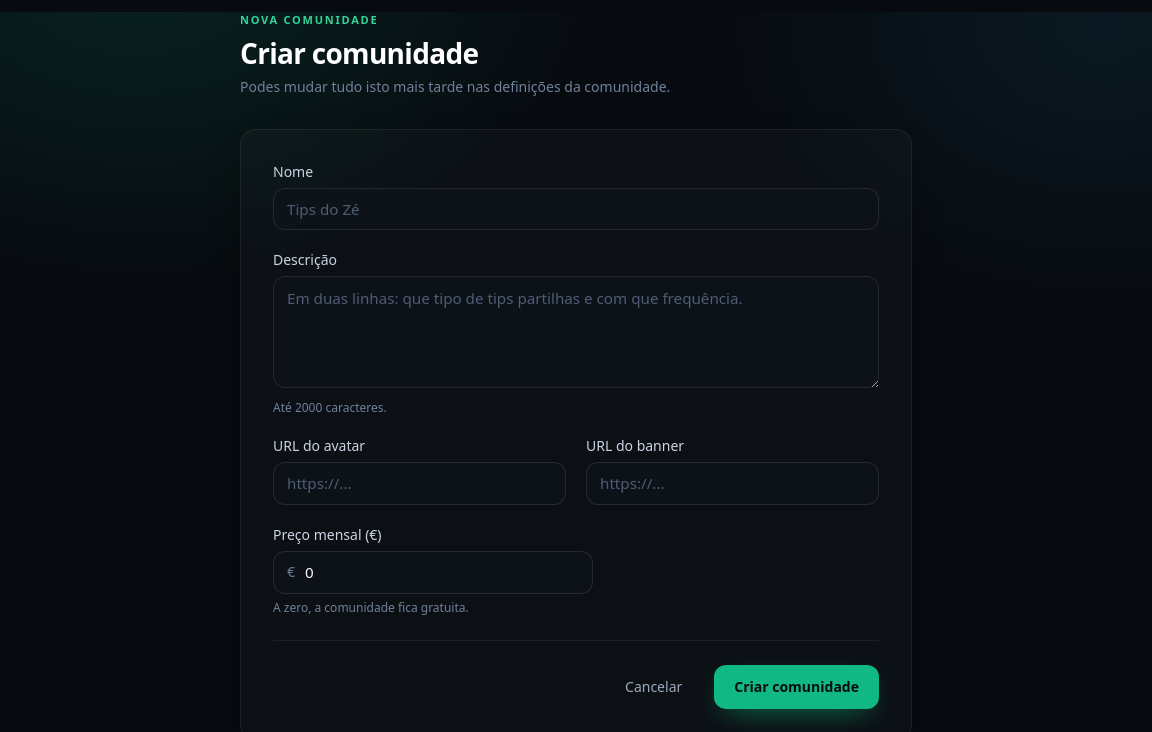
CreateCommunityPage › limiteDeComunidadesMostraAMensagemDevolvidaPeloBackend
Type "Comunidade Quatro" into the field labelled "Nome" at (576, 209), box [273,188,879,230]
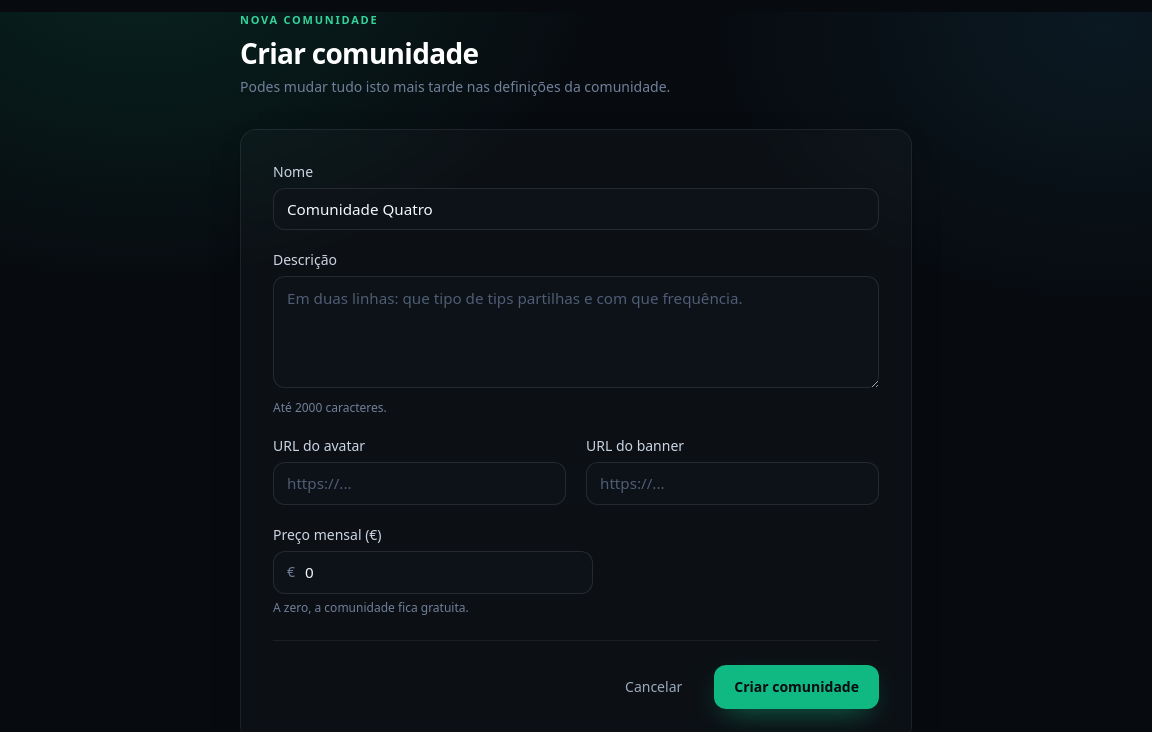
Click the button "Criar comunidade" at (797, 687), box [714,665,879,709]
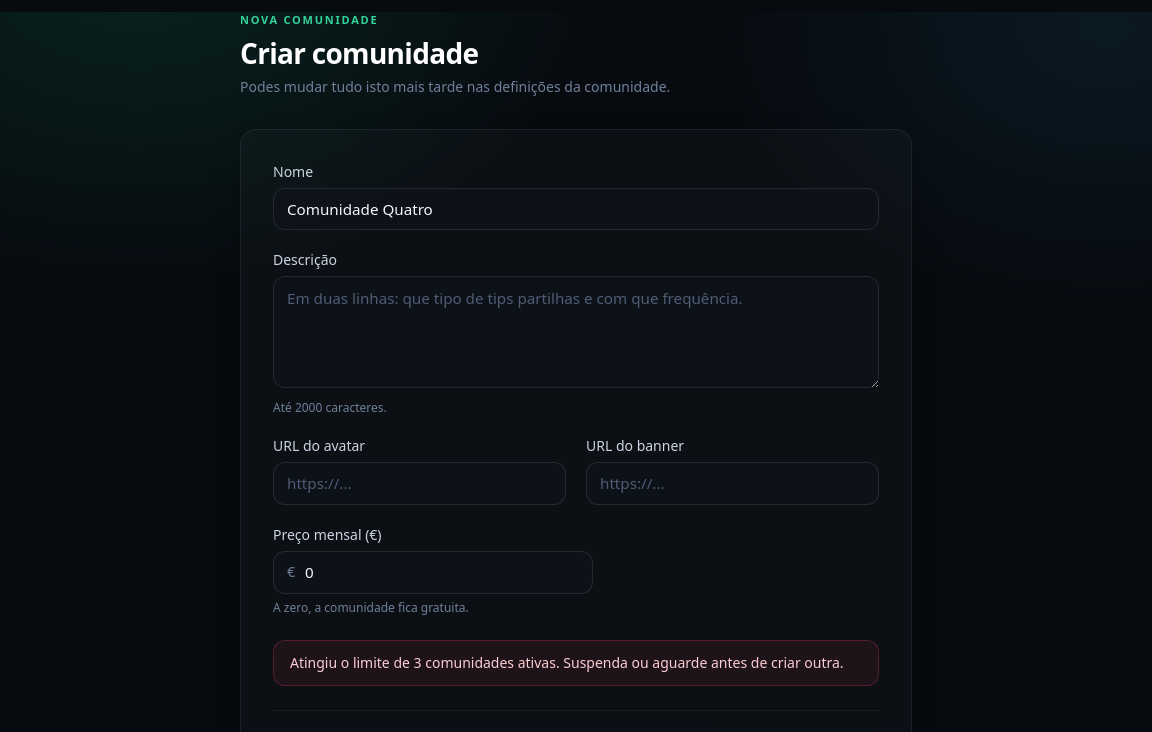
expect the message shows "Atingiu o limite de 3 comunidades ativas. Suspenda ou aguarde antes de criar outra.": met, box [290,653,844,672]
